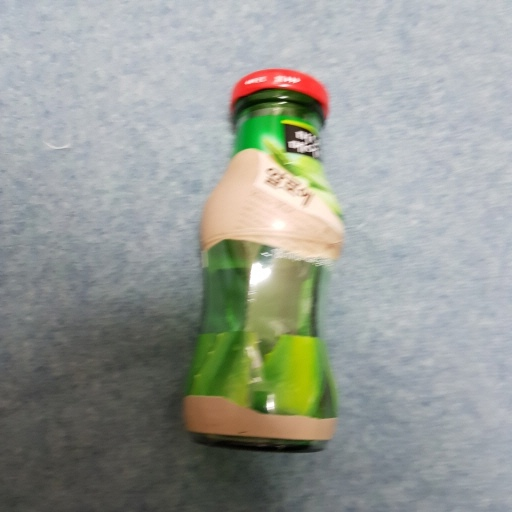Glass_4: (168, 71, 353, 450)
